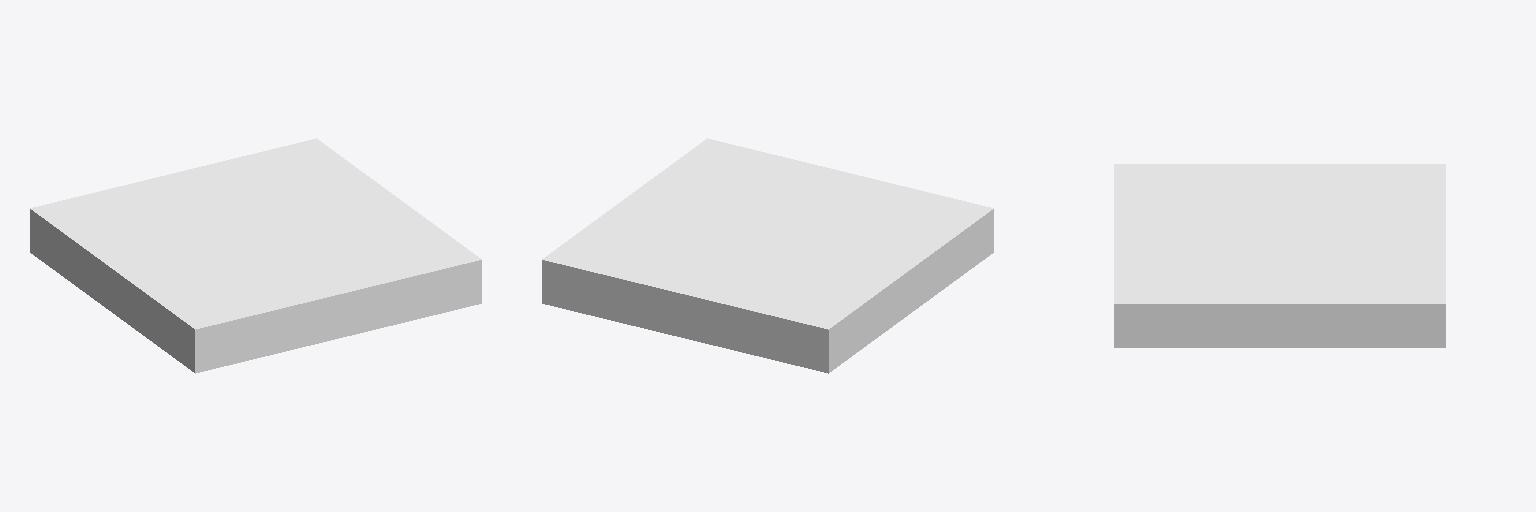
Rendered from Floor1.obj.
The picture shows the model from 3 angles: view 1: azimuth 30°, elevation 25°; view 2: azimuth 150°, elevation 25°; view 3: azimuth 270°, elevation 25°; orthographic projection.
Size of the model in its own units: 41 by 6 by 41.